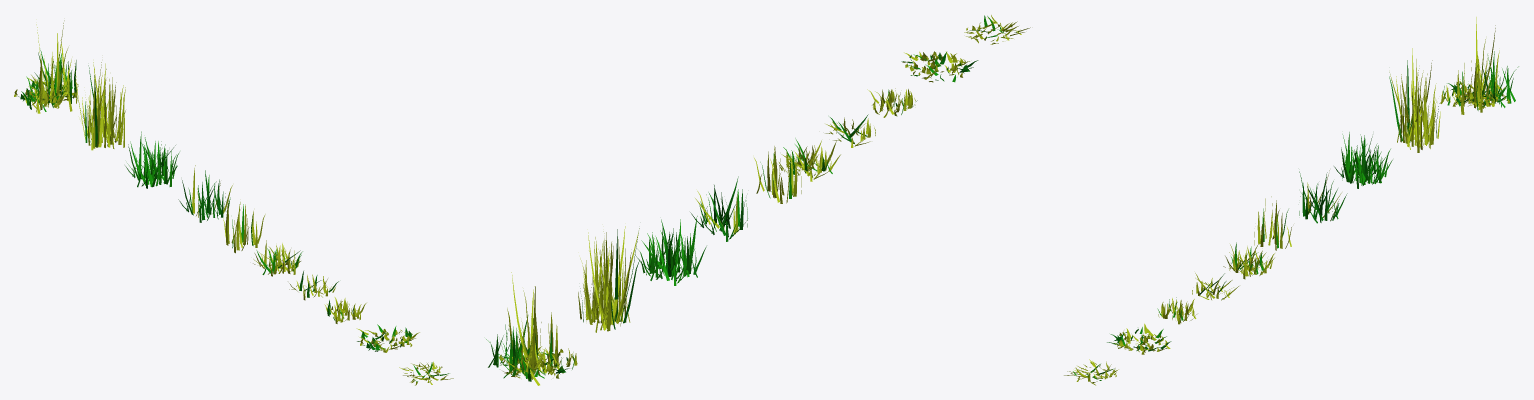
The model's file is low_poly_grass_pack.glb.
3 renders of one model, left to right at view 1: azimuth 30°, elevation 25°; view 2: azimuth 150°, elevation 25°; view 3: azimuth 330°, elevation 25°, orthographic. The views are drawn at different scales.
Visible parts, largest first — view 1: Object_3, Object_2, Object_4; view 2: Object_3, Object_2, Object_4; view 3: Object_3, Object_2, Object_4.
Boxes of the visible parts, bbox=[...] form: Object_3: bbox=[14, 20, 453, 385]; Object_2: bbox=[26, 50, 449, 381]; Object_4: bbox=[18, 63, 408, 351]; Object_3: bbox=[499, 15, 1030, 385]; Object_2: bbox=[486, 15, 1018, 381]; Object_4: bbox=[516, 52, 978, 373]; Object_3: bbox=[1064, 17, 1509, 385]; Object_2: bbox=[1073, 51, 1518, 380]; Object_4: bbox=[1107, 60, 1489, 350].
Bounding box in the file's own units: 26.07 × 33.16 × 288.
